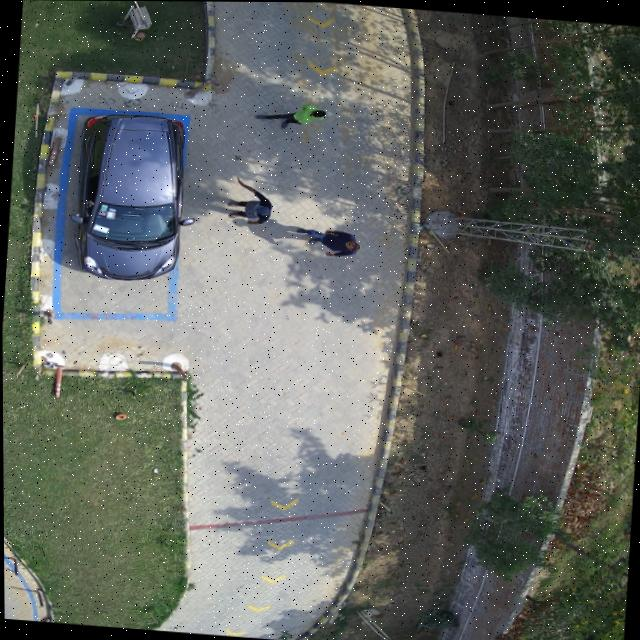car: (76, 111, 184, 277)
